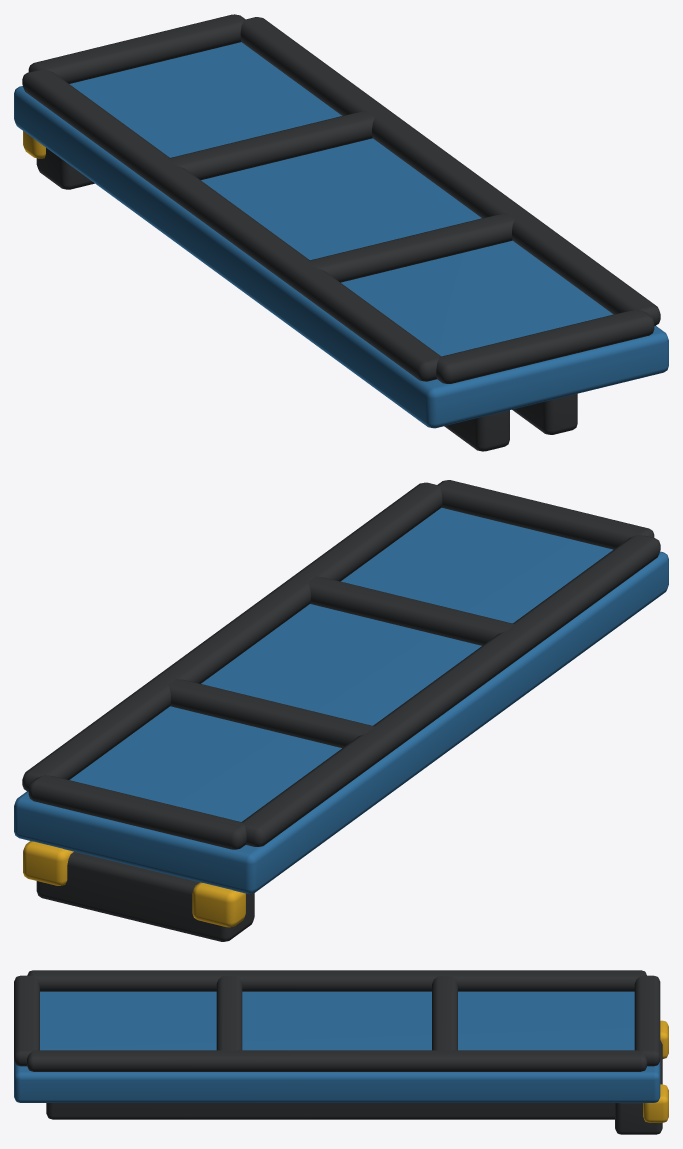
The model's file is frame-1x3.glb.
The picture shows the model from 3 angles, top to bottom: view 1: azimuth 30°, elevation 25°; view 2: azimuth 150°, elevation 25°; view 3: azimuth 270°, elevation 25°; orthographic projection. The views are drawn at different scales.
Visible parts, largest first — view 1: rig-body; view 2: rig-body; view 3: rig-body.
Boxes of the visible parts, <box> form: rig-body: <box>14,14,668,451</box>; rig-body: <box>14,480,668,941</box>; rig-body: <box>14,970,668,1134</box>.
Size of the model in its own units: 1 by 0.46 by 3.04.
